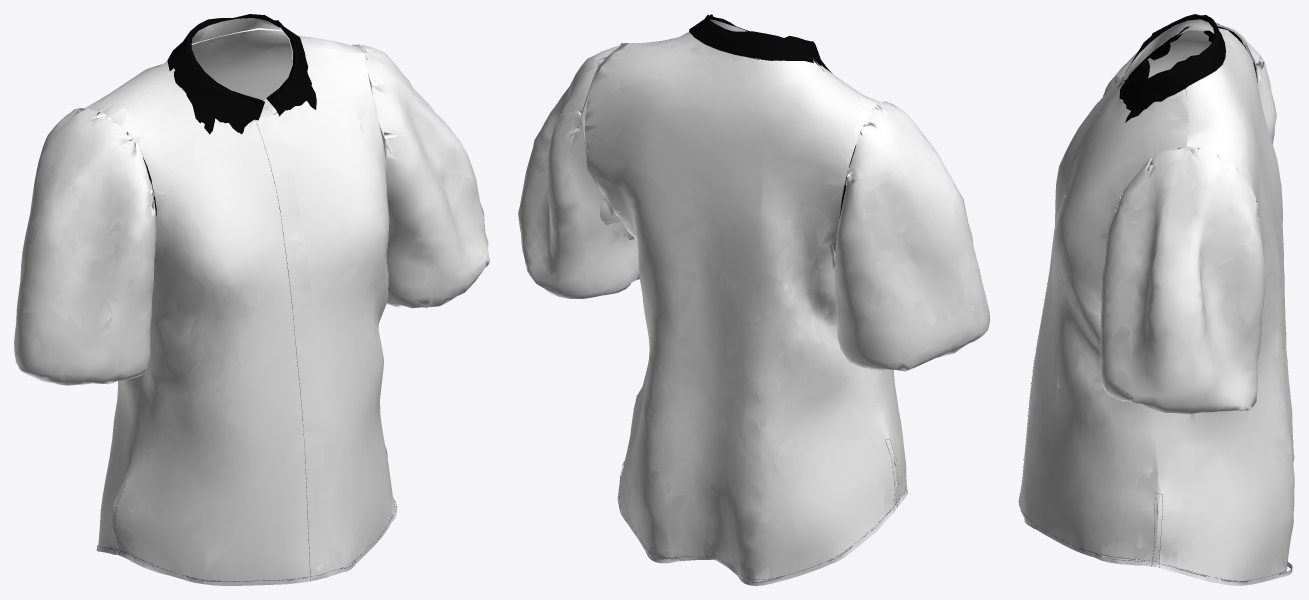
Rendered from wiggytoplowpoly1.fbx.
3 renders of one model, left to right at view 1: azimuth 30°, elevation 25°; view 2: azimuth 150°, elevation 25°; view 3: azimuth 270°, elevation 25°, orthographic. The views are drawn at different scales.
Visible parts, largest first — view 1: BLOUSE.袖.M_4.001; view 2: BLOUSE.袖.M_4.001; view 3: BLOUSE.袖.M_4.001.
Part boxes in pixels (x1,y1,x2,y2): BLOUSE.袖.M_4.001: (14, 14, 489, 585); BLOUSE.袖.M_4.001: (518, 14, 989, 585); BLOUSE.袖.M_4.001: (1018, 14, 1294, 585).
Size of the model in its own units: 60.21 by 65.82 by 31.65.
